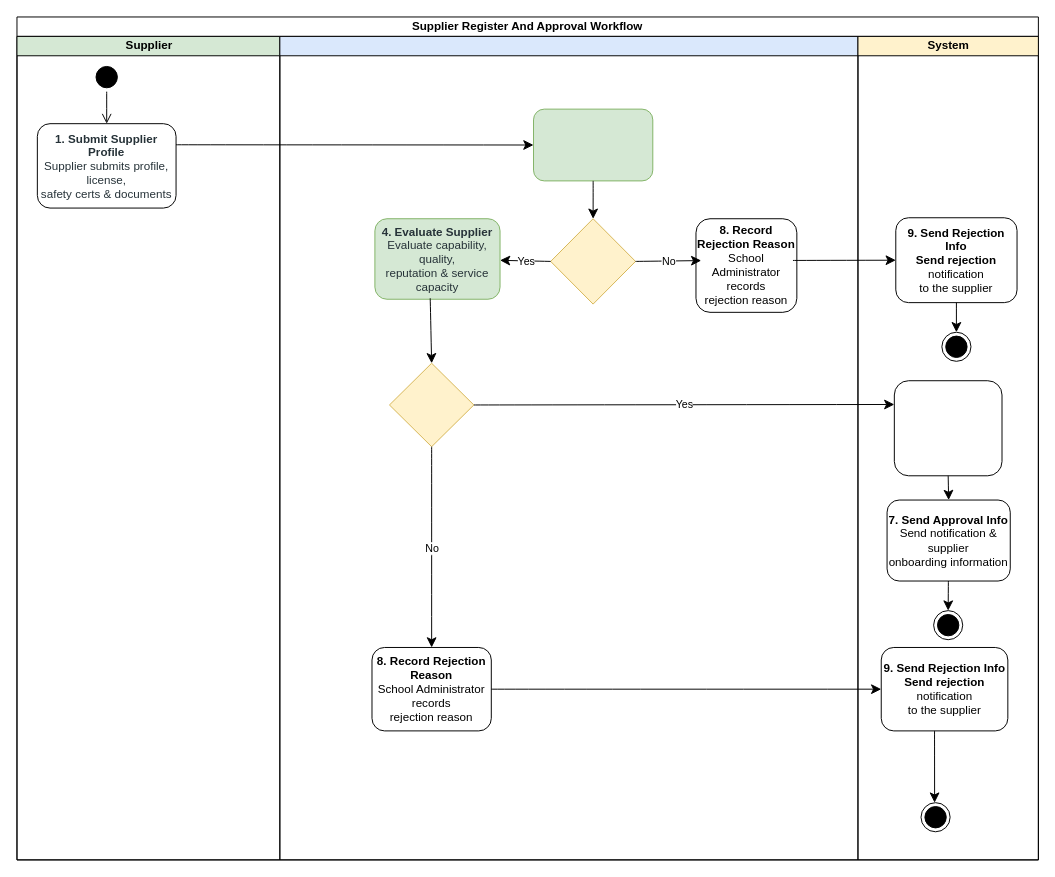
This 1055x877 diagram has some shape labels left out. The box of each missing label's shape, as (x1, y1, x2, y2) in pixels:
2. Review Supplier Docs Review Supplier Documents: (533, 108, 653, 181)
3.Document Valid?: (550, 218, 636, 304)
5. Approve Supplier?: (388, 362, 474, 447)
6. Create Supplier Record System creates profile & assigns Approved status: (893, 380, 1002, 476)
School Administration: (279, 35, 858, 860)
